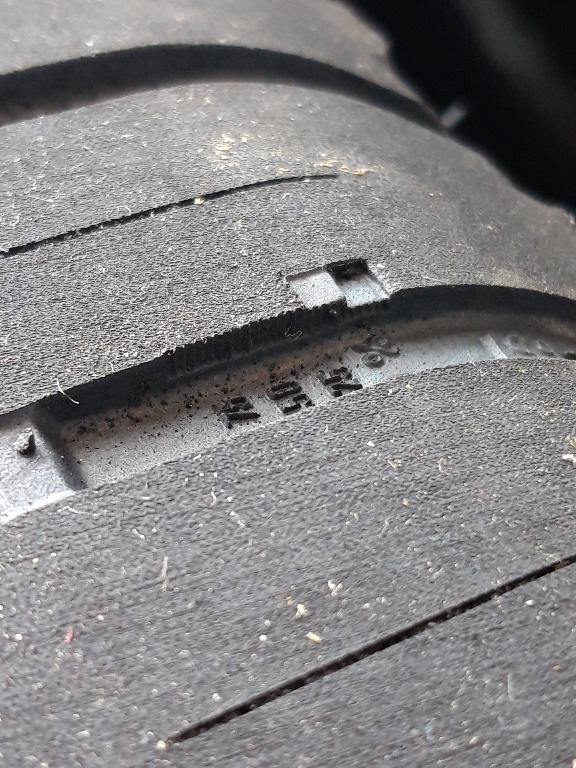temoin:25: (276, 252, 403, 343)
